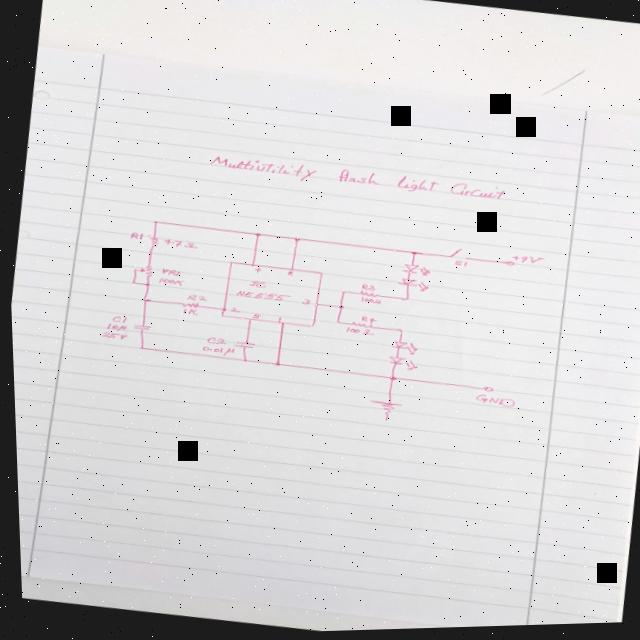capacitor: (228, 340, 253, 350), (128, 322, 148, 332)
diode: (392, 277, 427, 295), (382, 356, 415, 373), (397, 263, 429, 279), (386, 341, 414, 357)
ground: (361, 399, 399, 424)
junction: (384, 377, 394, 382), (138, 297, 148, 302), (250, 232, 259, 237), (331, 320, 338, 326), (407, 252, 415, 257), (290, 237, 298, 242), (334, 305, 342, 310), (270, 362, 277, 367), (238, 358, 244, 363), (135, 345, 141, 350), (400, 298, 406, 303), (141, 282, 148, 286), (393, 329, 400, 333), (150, 220, 156, 224), (337, 291, 343, 295), (129, 268, 134, 272), (128, 280, 132, 284)
resistor: (134, 263, 153, 278), (346, 321, 372, 330), (174, 300, 197, 309), (354, 290, 377, 299), (143, 236, 157, 248)
switch: (445, 248, 466, 263)
terminal: (477, 387, 490, 395), (499, 262, 512, 269)
text: (204, 146, 505, 214), (231, 287, 289, 304), (469, 394, 512, 411), (197, 343, 232, 358), (159, 237, 196, 250), (507, 255, 543, 268), (341, 327, 372, 337), (154, 276, 181, 287), (96, 330, 125, 340), (201, 335, 225, 347), (100, 321, 124, 333), (243, 279, 265, 291), (356, 296, 379, 306), (157, 267, 178, 277), (182, 293, 205, 302), (125, 230, 142, 241), (356, 316, 374, 326), (177, 307, 196, 316), (107, 314, 124, 324), (357, 284, 372, 292), (450, 261, 465, 269), (225, 306, 239, 314), (246, 313, 259, 320), (296, 299, 308, 306), (249, 267, 260, 274), (271, 316, 280, 324), (282, 270, 291, 277)
